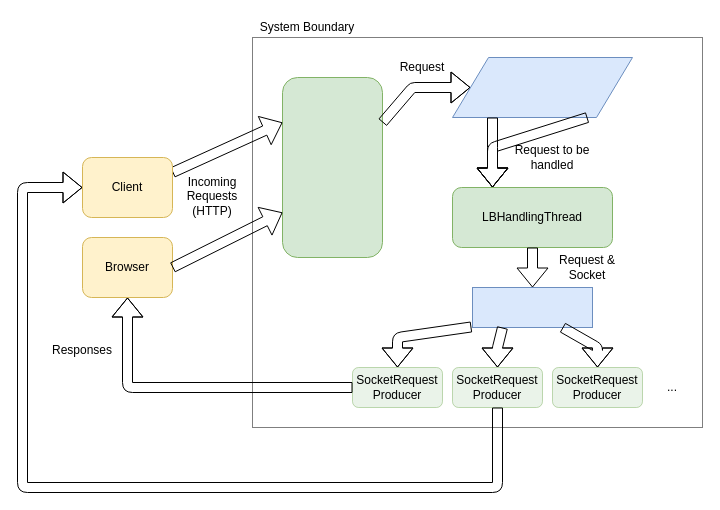
Some shapes in this 720 by 510 pixel diagram are drawn without their labels. Here are the shapes that lost their labels. From the top down, the centre of each, then its label:
(x=542, y=87): RequestDeque
(x=332, y=167): LBEntryThread
(x=532, y=307): Producer ThreadPool
